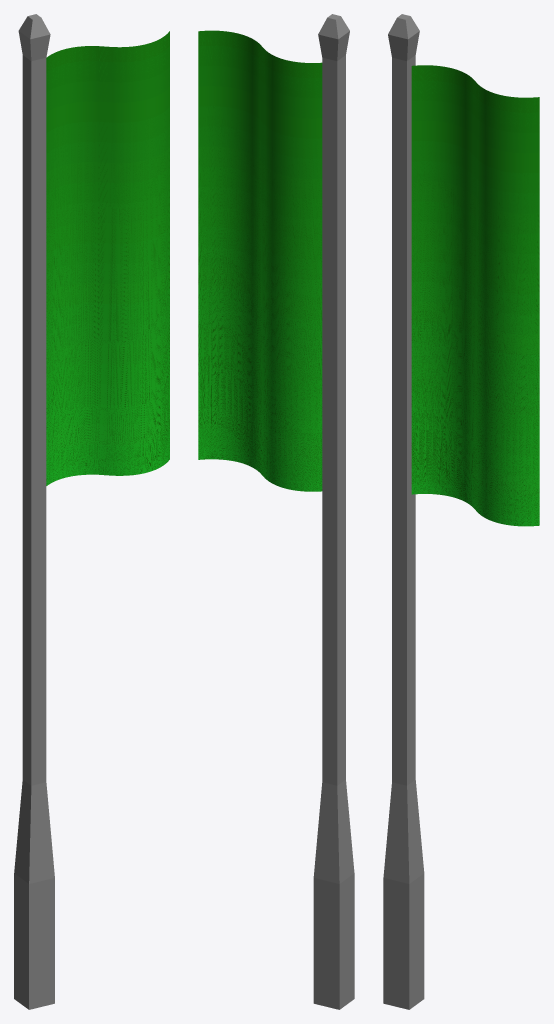
Rendered from GreenFlag.fbx.
The picture shows the model from 3 angles, left to right: view 1: azimuth 30°, elevation 25°; view 2: azimuth 150°, elevation 25°; view 3: azimuth 330°, elevation 25°; orthographic projection.
Parts seen in each view (by area): view 1: flagGreen(Clone), Group; view 2: flagGreen(Clone), Group; view 3: flagGreen(Clone), Group.
Part boxes in pixels (x1,y1,x2,y2): flagGreen(Clone): [46, 31, 169, 485]; Group: [14, 14, 54, 1009]; flagGreen(Clone): [198, 30, 322, 491]; Group: [313, 14, 354, 1009]; flagGreen(Clone): [411, 65, 539, 526]; Group: [383, 14, 424, 1009].
Bounding box in the file's own units: 19.72 × 125 × 3.52.
